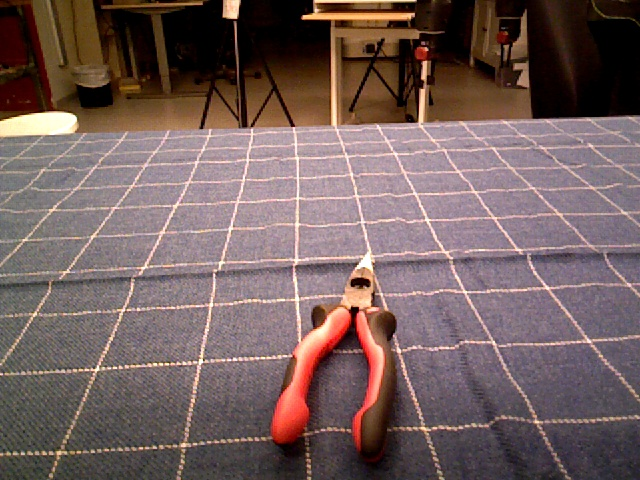plier1: (269, 246, 397, 466)
